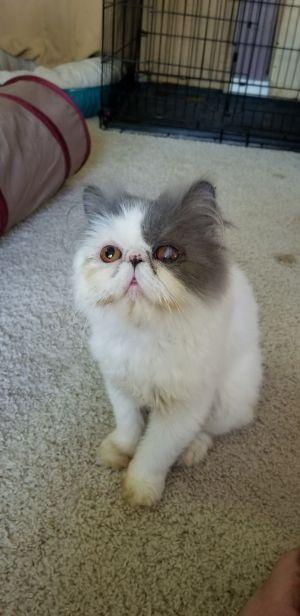persian: (60, 171, 239, 346)
